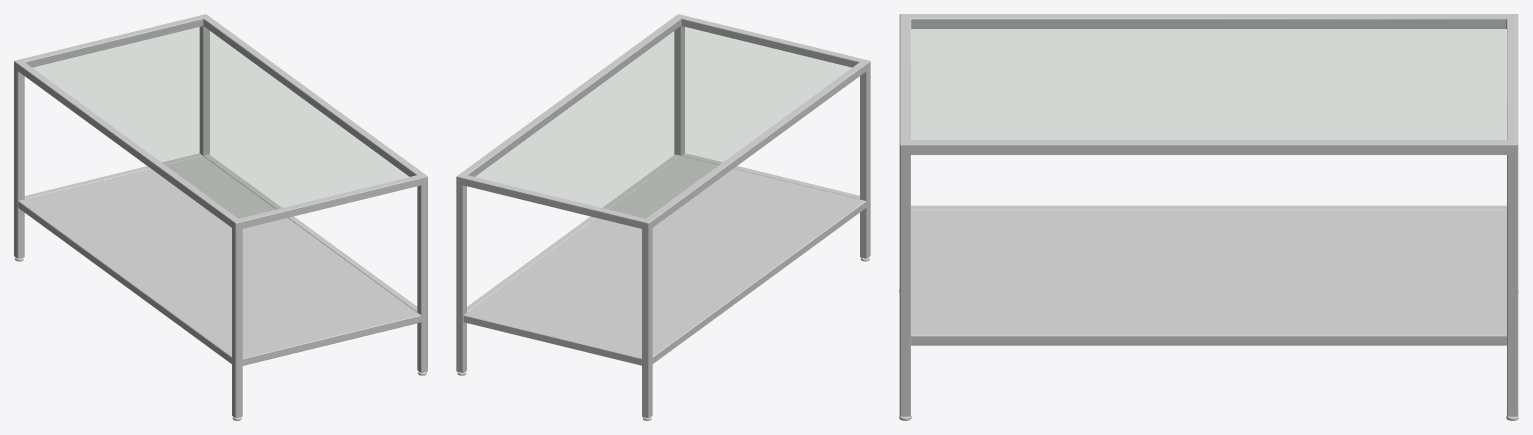
The model's file is Металический стол.FBX.
3 renders of one model, left to right at view 1: azimuth 30°, elevation 25°; view 2: azimuth 150°, elevation 25°; view 3: azimuth 270°, elevation 25°, orthographic. The views are drawn at different scales.
Parts seen in each view (by area): view 1: Box5440, Box5439, Box5432; view 2: Box5440, Box5439, Box5432; view 3: Box5440, Box5439, Box5432.
Part boxes in pixels (x1,y1,x2,y2): Box5440: (25, 156, 416, 355); Box5439: (32, 25, 409, 217); Box5432: (14, 14, 427, 418); Box5440: (467, 156, 859, 355); Box5439: (474, 25, 851, 217); Box5432: (456, 14, 870, 418); Box5440: (911, 210, 1506, 331); Box5439: (911, 28, 1506, 139); Box5432: (899, 14, 1518, 416).
Size of the model in its own units: 45.27 by 44.48 by 90.34.
